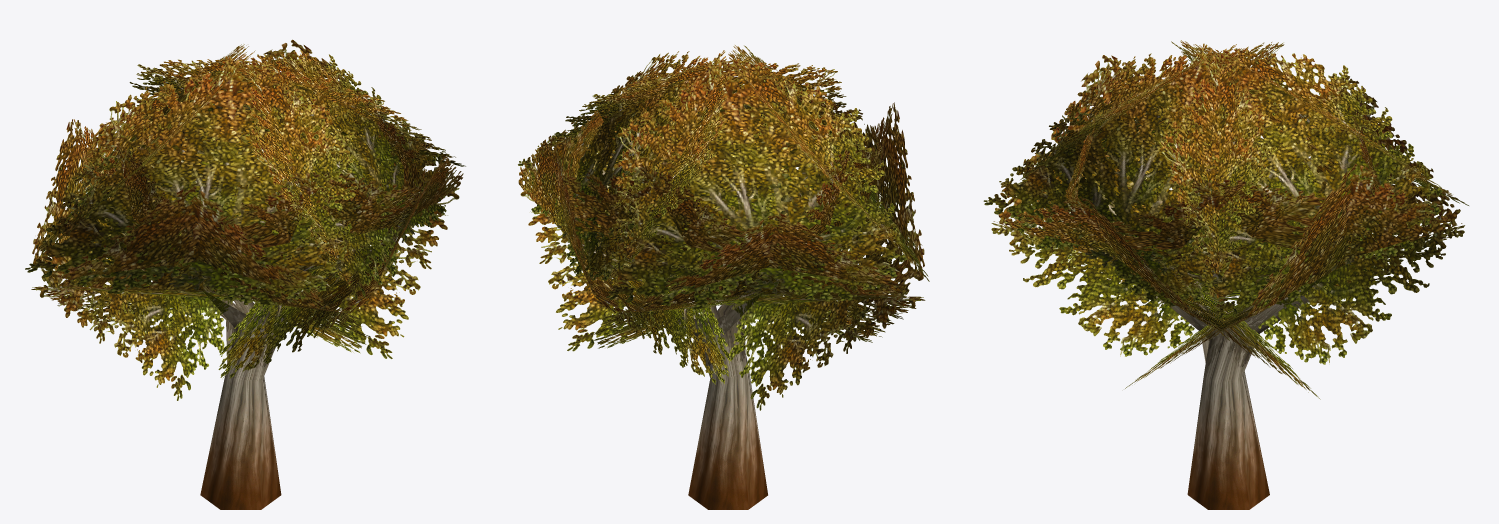
Rendered from redridgetreecanopy01.obj.
3 renders of one model, left to right at view 1: azimuth 30°, elevation 25°; view 2: azimuth 150°, elevation 25°; view 3: azimuth 270°, elevation 25°, orthographic. The views are drawn at different scales.
Parts seen in each view (by area): view 1: Geoset1, Geoset0; view 2: Geoset1, Geoset0; view 3: Geoset1, Geoset0.
Part boxes in pixels (<box>): Geoset1: <box>25,39,465,400</box>; Geoset0: <box>200,253,370,509</box>; Geoset1: <box>518,45,929,410</box>; Geoset0: <box>614,264,767,509</box>; Geoset1: <box>983,40,1468,399</box>; Geoset0: <box>1081,250,1387,509</box>.
Bounding box in the file's own units: 65.31 × 60.62 × 63.21.
2 materials, 2 textured.
